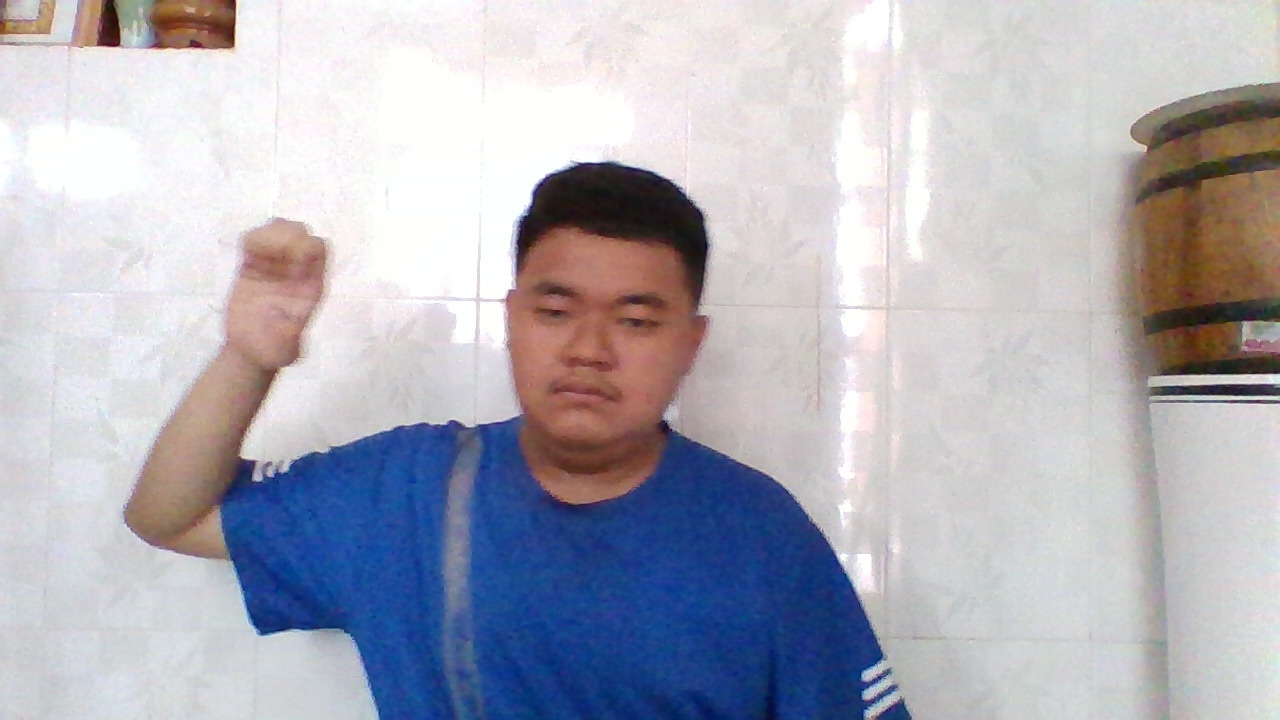E: (231, 214, 342, 376)
